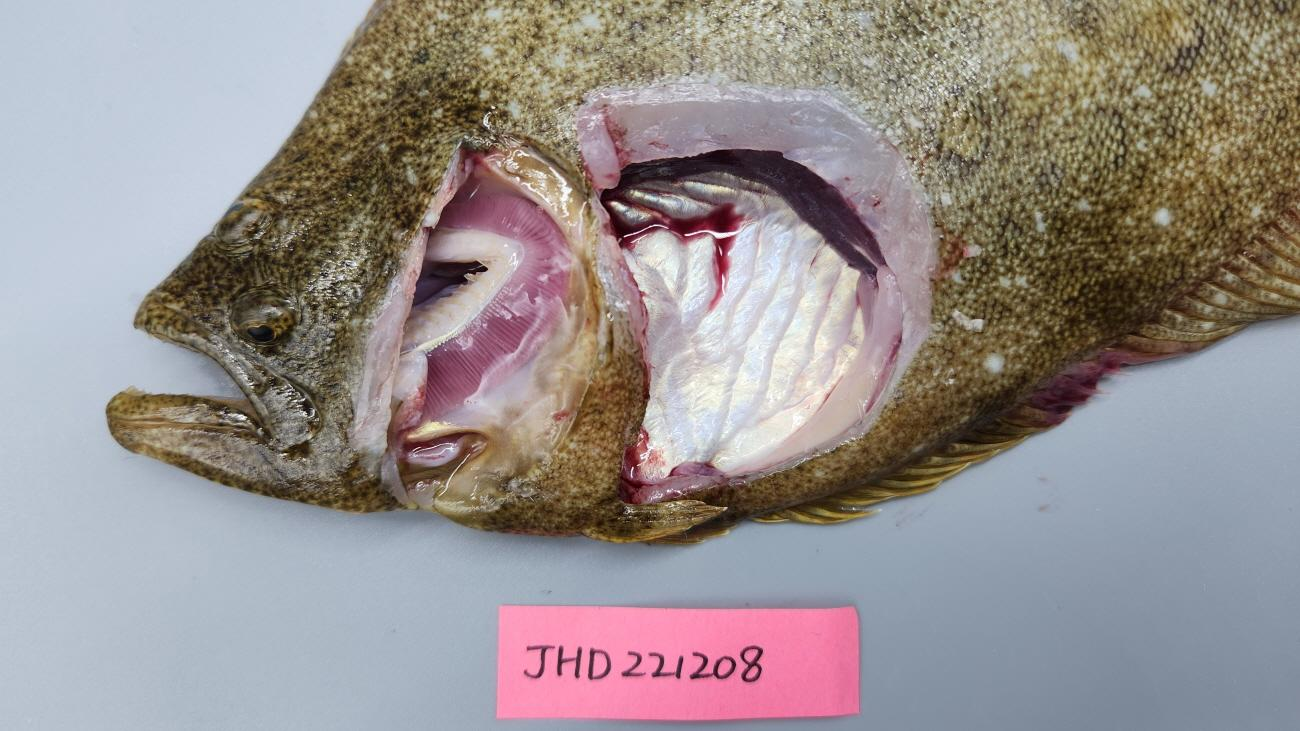SPKIE: (603, 147, 885, 276)
